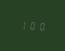one: (18, 19, 26, 30)
zero: (28, 19, 36, 31), (37, 20, 45, 31)
